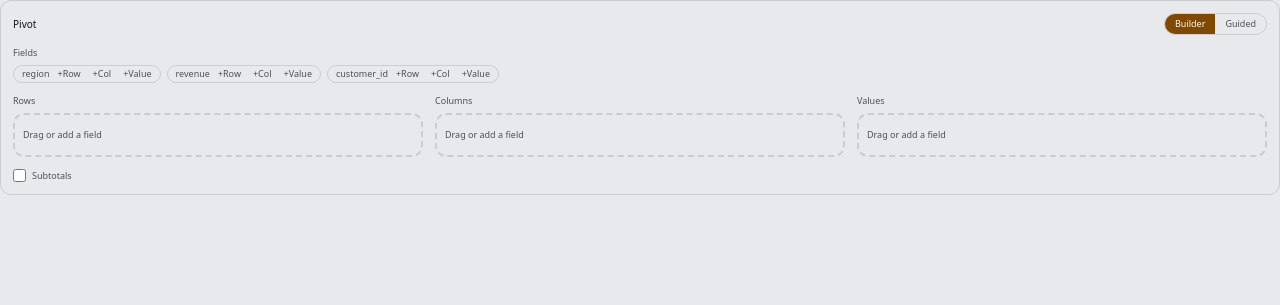
it: PivotBuilder › the subtotals checkbox adds a ROLLUP to the compiled SQL
Step 1. Click the button titled "Add region to rows" next to "region" → [69, 74], box [54, 68, 85, 80]
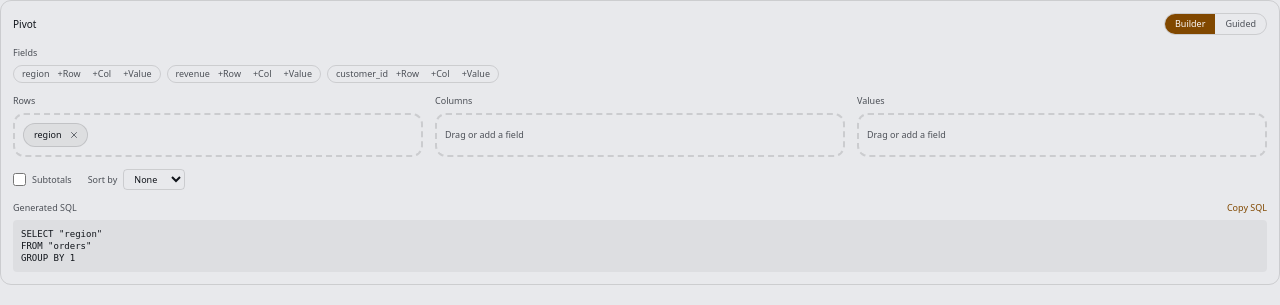
Step 2. Click the button titled "Add revenue to values" in the row of "revenue" → [298, 74], box [280, 68, 316, 80]
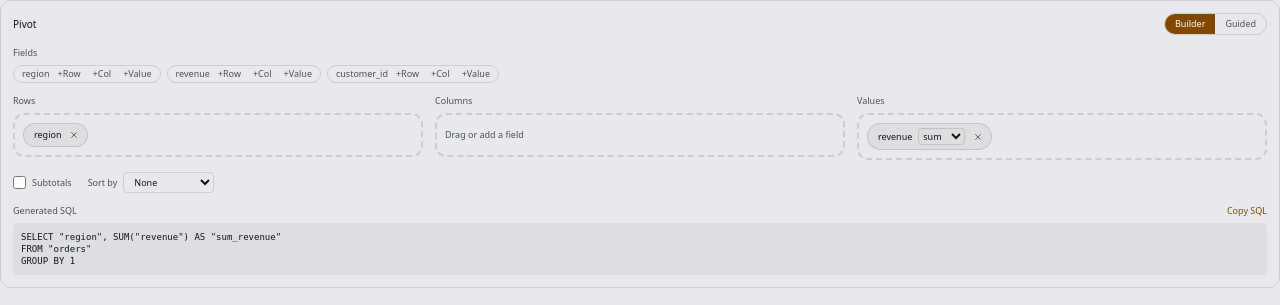
Expected: the text "SELECT" shows "GROUP BY 1", [21, 232, 281, 266]
Step 3. Click the checkbox labelled "Subtotals" → [20, 182], box [13, 176, 26, 189]
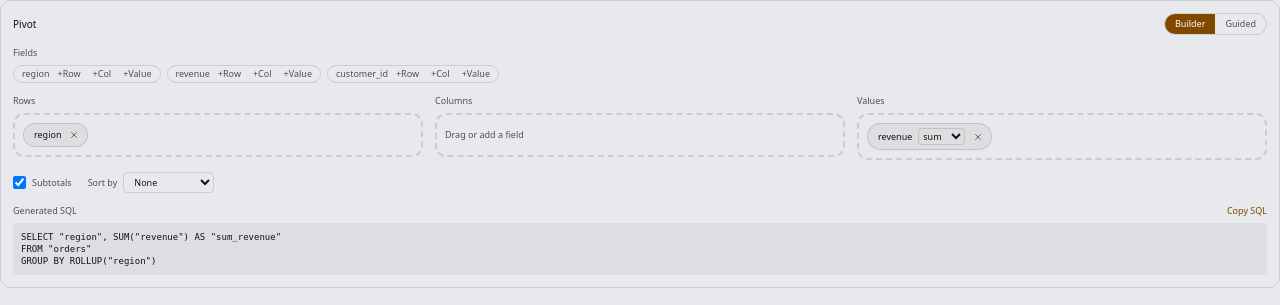
Expected: the text "SELECT" shows "GROUP BY ROLLUP(\"region\")", [21, 232, 281, 266]
